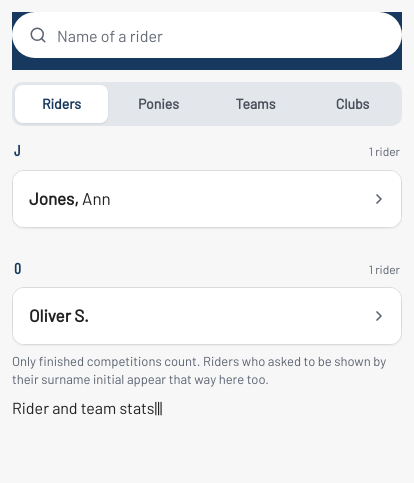
Test case: StatsPage browse › narrows the list as you type
The width and height of the screenshot is (414, 483).
Check: the link "Jones, Ann" is shown, box [13, 170, 401, 226]
Type "o" into the search field. click: (221, 35)
box: [57, 13, 385, 57]
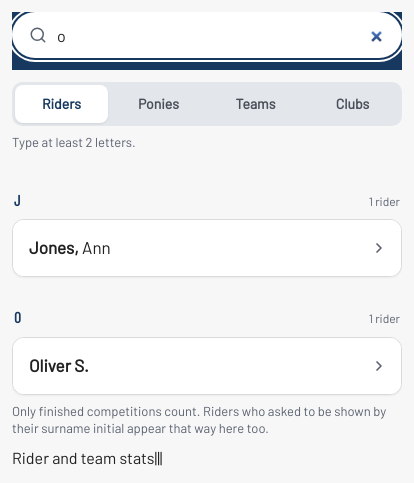
Check: the text "Type at least 2 letters." is shown, box [12, 134, 136, 150]
Type "li" into the search field. click: (221, 35)
box: [57, 13, 385, 57]
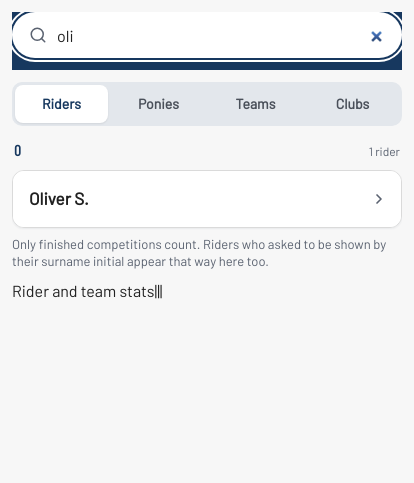
Check: the text "Oliver S." is shown, box [29, 188, 89, 208]
Check: the link "Jones, Ann" is gone
